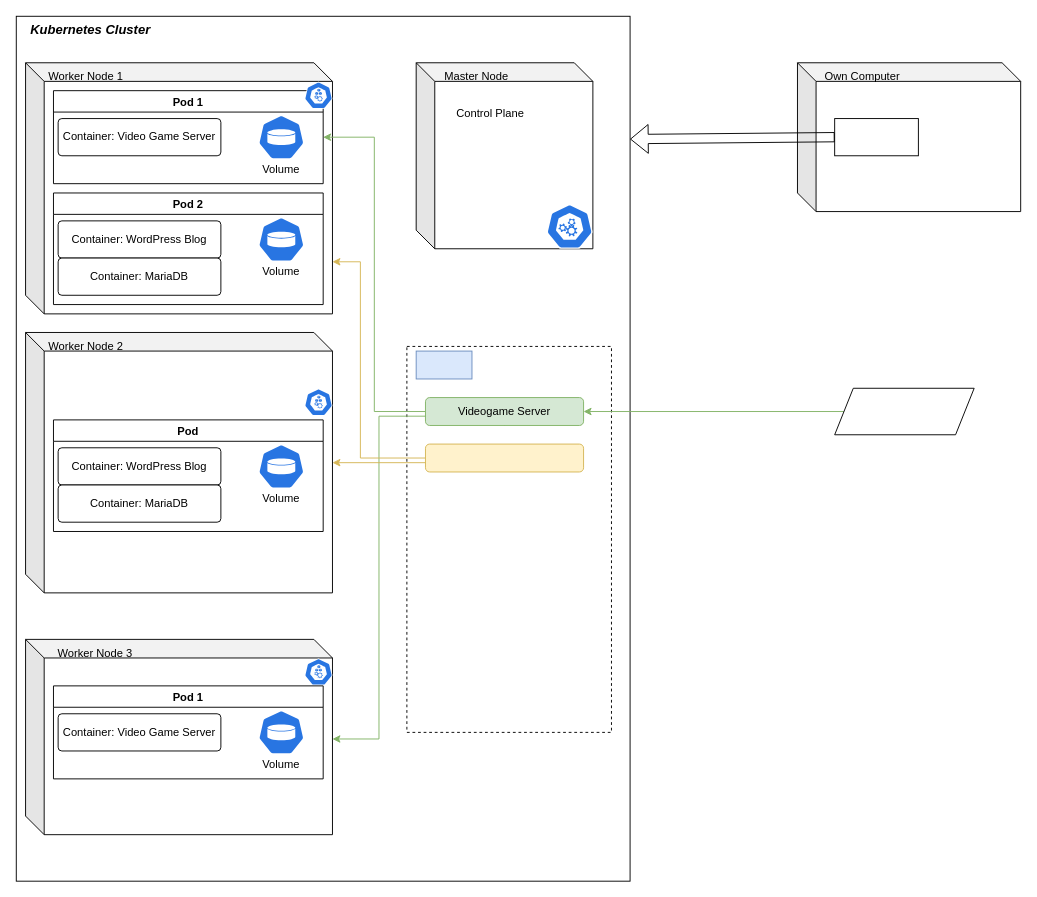
This 1037x897 diagram has some shape labels left out. Here are the shapes that lost their labels. From the top down, the centre of each, then its label:
At [876,137]: "kubectl".
At [443,364]: "Services".
At [904,411]: "HTTP Request uses ip of the service".
At [504,457]: "Wordpress Blog".
